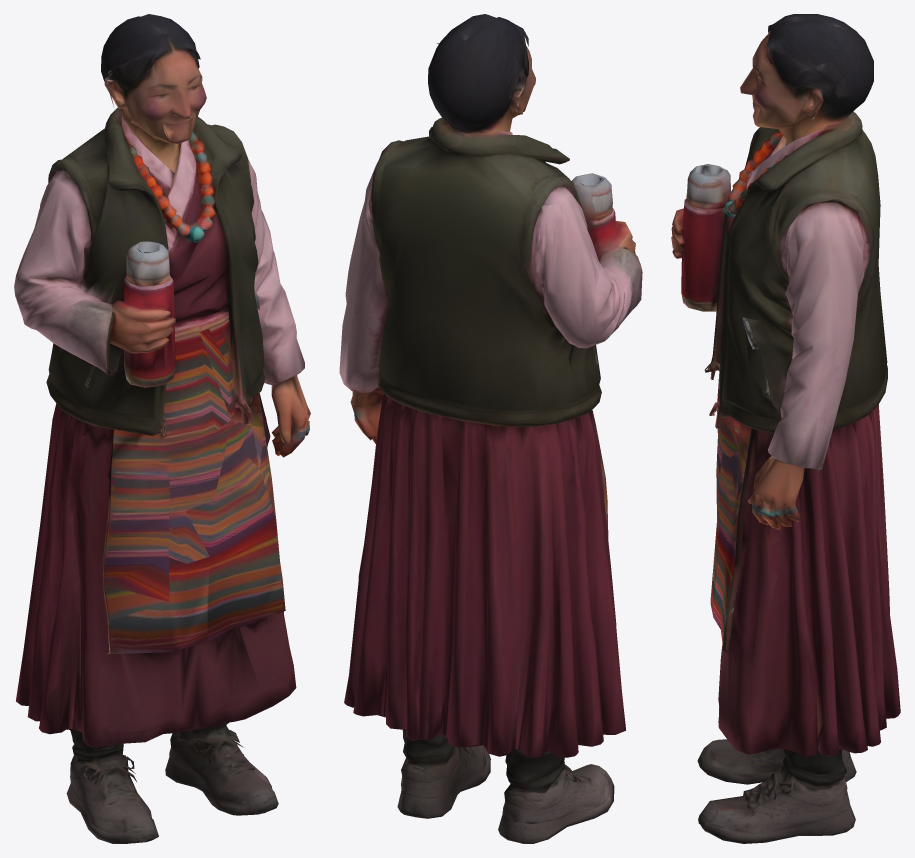
File: char_lodge.glb
3 views of the same model, side by side, from view 1: azimuth 30°, elevation 25°; view 2: azimuth 150°, elevation 25°; view 3: azimuth 270°, elevation 25° (orthographic). The views are drawn at different scales.
Parts seen in each view (by area): view 1: material; view 2: material; view 3: material.
Part boxes in pixels (bbox=[...]): material: bbox=[14, 14, 310, 843]; material: bbox=[339, 14, 642, 843]; material: bbox=[671, 14, 900, 843].
Bounding box in the file's own units: 0.5745 × 1.55 × 0.4105.
Materials: 1 (1 with a texture image).
